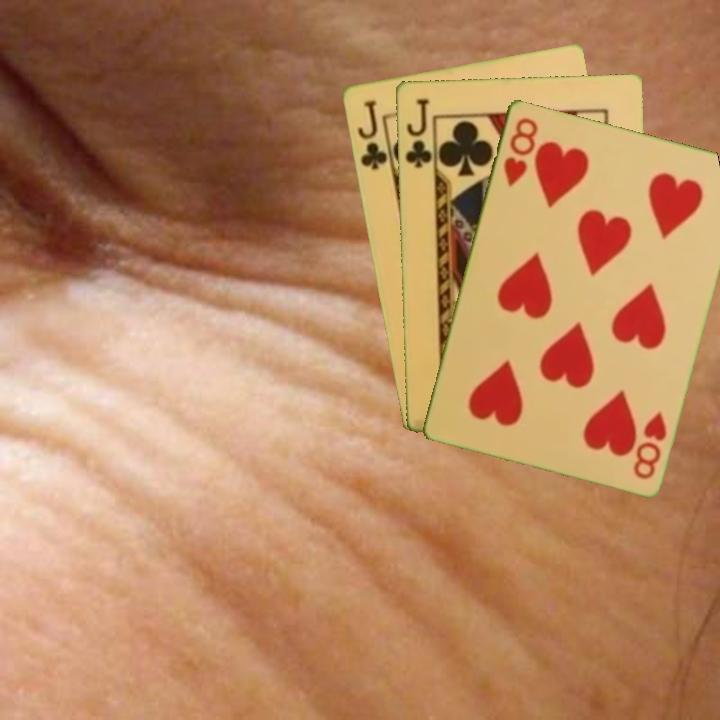8h: (499, 113, 541, 189), (629, 408, 670, 482)
Jc: (353, 96, 390, 172), (401, 94, 434, 171)
